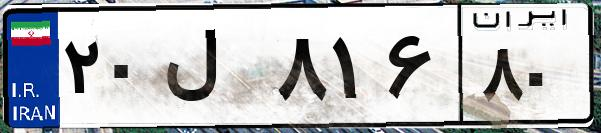0: (525, 38, 570, 115), (110, 28, 158, 98)
1: (330, 28, 385, 110)
2: (57, 26, 110, 100)
6: (385, 28, 445, 110)
8: (270, 28, 330, 110), (475, 38, 525, 113)
ل: (158, 20, 270, 120)
